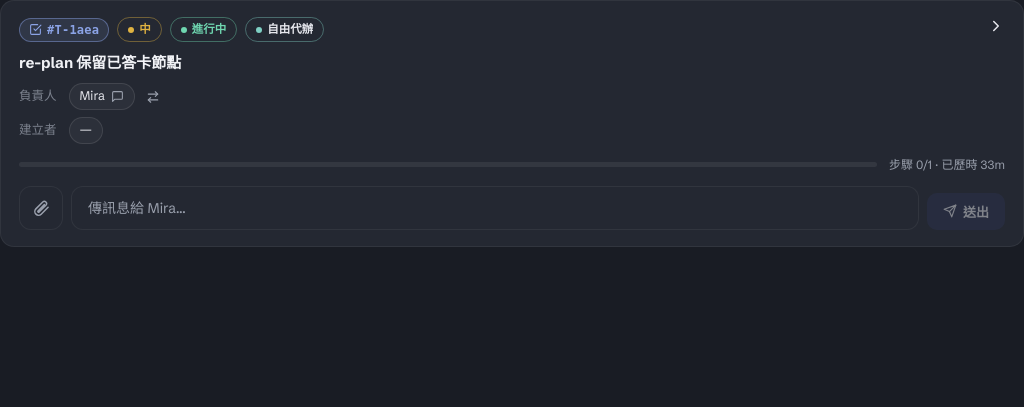
it: TaskCard renders superseded rows as greyed archive (T-1aea) › shows the 已取代 badge, the greyscale row class and the muted dot
Click the button with test id "task-card": (512, 232) [0, 0, 1023, 247]
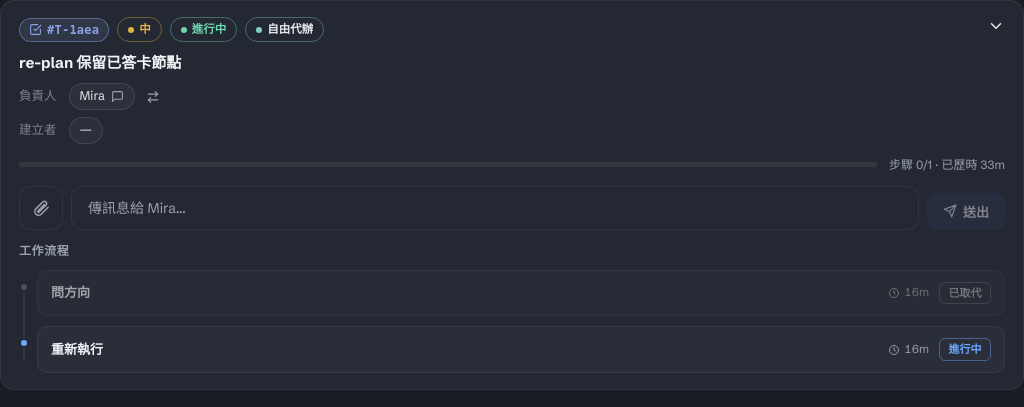
Result: the text "已取代" is shown at [939, 282, 991, 304]
Result: the element with class "task-step--superseded" is shown at [37, 270, 1005, 316]
Result: the element with class "task-timeline__dot--superseded" is shown at [19, 282, 29, 292]
